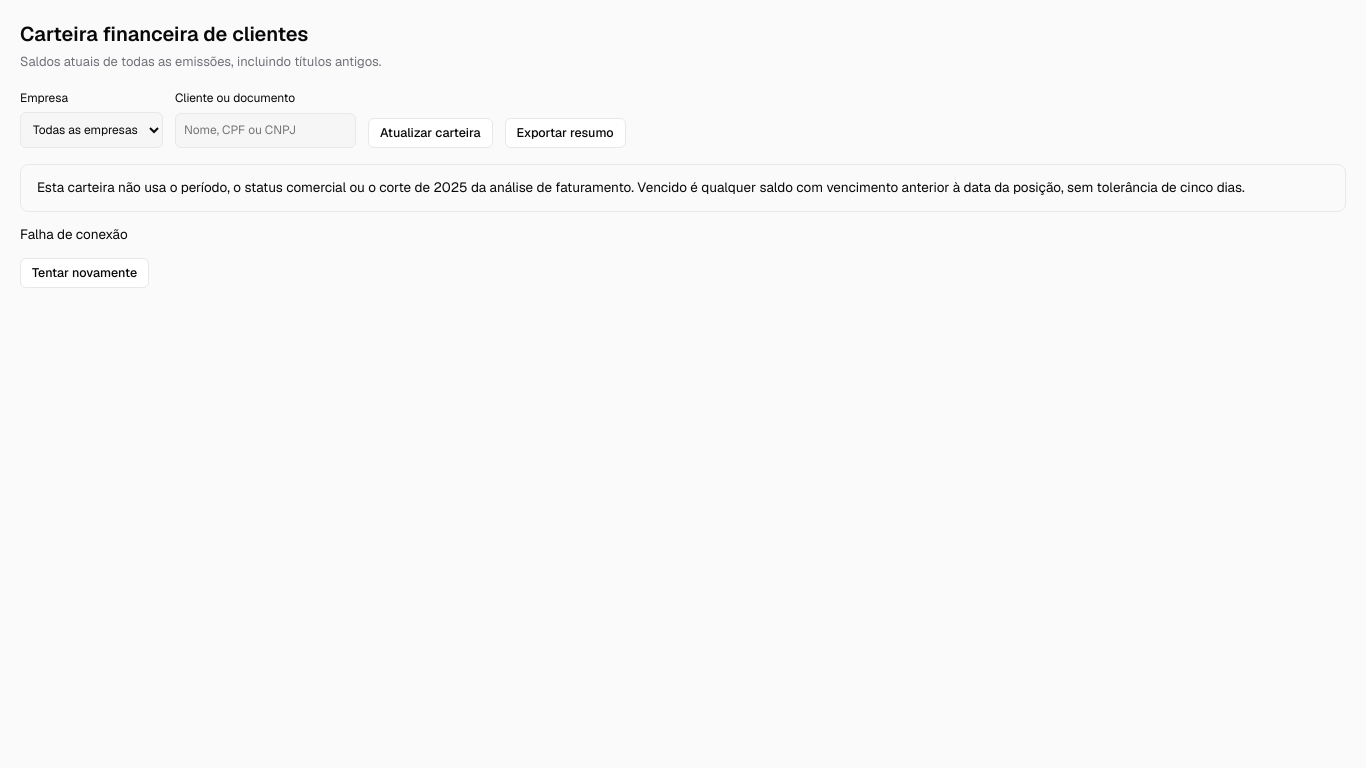
Test: falha não vira carteira zerada e permite nova tentativa
Check: the message "Falha de conexão Tentar novamente" is shown, box [20, 225, 149, 288]
Check: the text "Saldo total em aberto" is not shown
Step 1. Click the button "Tentar novamente" → {"x": 85, "y": 273}, box [20, 258, 149, 288]
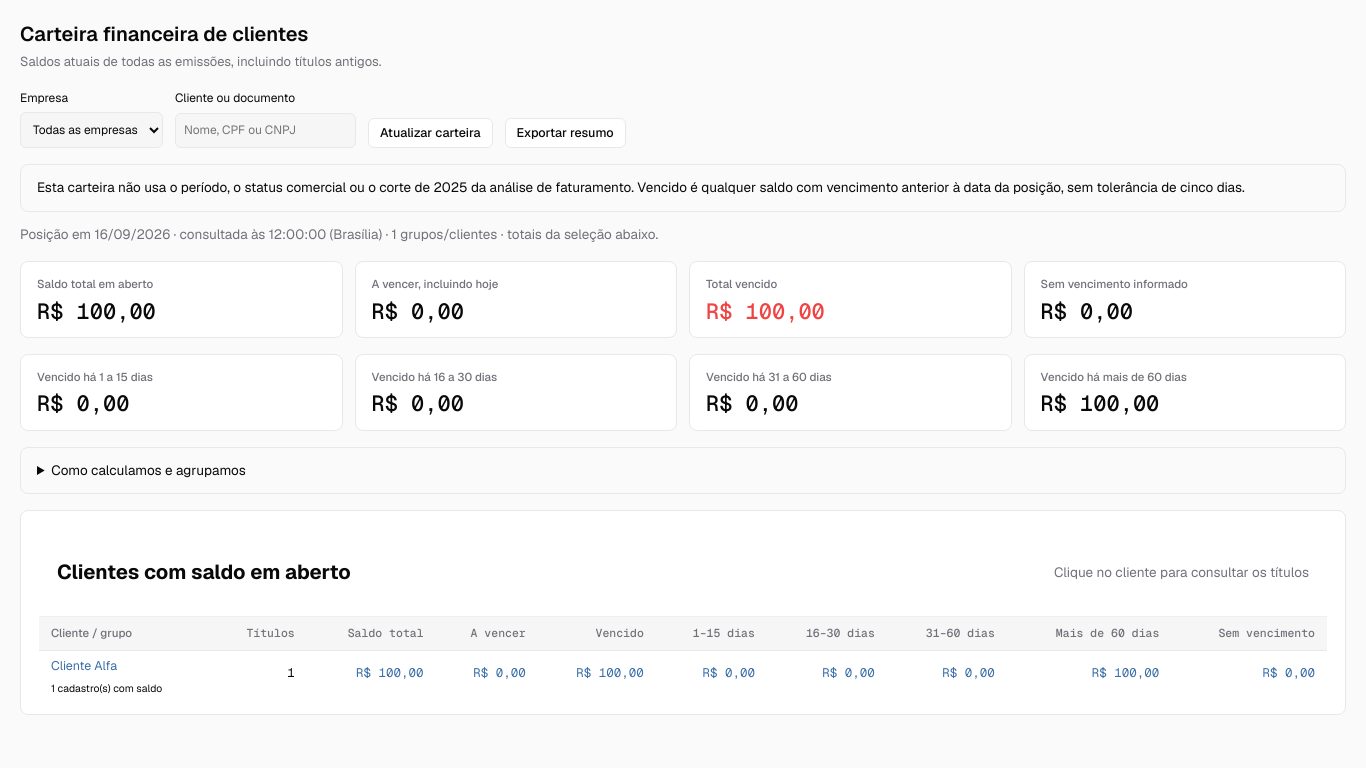
Check: the button "Cliente Alfa" is shown, box [51, 651, 117, 681]
